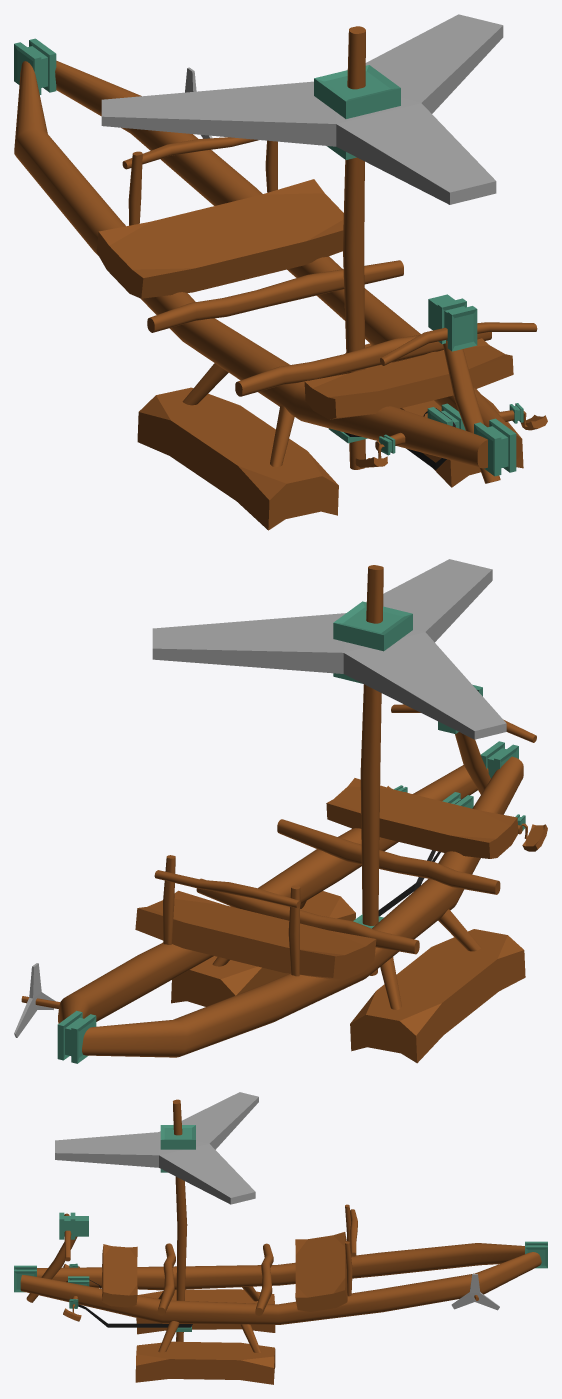
File: Helicopter.fbx
3 views of the same model, one above another, from view 1: azimuth 30°, elevation 25°; view 2: azimuth 150°, elevation 25°; view 3: azimuth 270°, elevation 25° (orthographic). The views are drawn at different scales.
Parts seen in each view (by area): view 1: Цилиндр, ТраекторияNurbs, Куб, Куб.002, Куб.001, ТраекторияNurbs.007, ТраекторияNurbs.001, ТраекторияNurbs.008, Куб.010, Куб.009, ТраекторияNurbs.005, ТраекторияNurbs.004 (+5 smaller); view 2: ТраекторияNurbs, Цилиндр, Куб.002, Куб, Куб.001, ТраекторияNurbs.007, ТраекторияNurbs.008, ТраекторияNurbs.001, Куб.010, ТраекторияNurbs.002, ТраекторияNurbs.003, ТраекторияNurbs.004 (+4 smaller); view 3: ТраекторияNurbs, Цилиндр, Куб.002, Куб, Куб.001, ТраекторияNurbs.007, Куб.010, ТраекторияNurbs.004, ТраекторияNurbs.008, ТраекторияNurbs.001, Куб.009, Цилиндр.001 (+5 smaller).
Part boxes in pixels (left/top/right/bottom): Цилиндр: left=101, top=14, right=503, bottom=204; ТраекторияNurbs: left=14, top=60, right=521, bottom=468; Куб: left=96, top=179, right=343, bottom=298; Куб.002: left=137, top=343, right=523, bottom=530; Куб.001: left=304, top=338, right=513, bottom=419; ТраекторияNurbs.007: left=343, top=26, right=365, bottom=469; ТраекторияNurbs.001: left=147, top=260, right=403, bottom=332; ТраекторияNurbs.008: left=235, top=332, right=491, bottom=396; Куб.010: left=314, top=65, right=400, bottom=159; Куб.009: left=428, top=294, right=477, bottom=351; ТраекторияNurbs.005: left=442, top=340, right=500, bottom=483; ТраекторияNurbs.004: left=182, top=344, right=372, bottom=467; ТраекторияNurbs: left=58, top=756, right=523, bottom=1057; Цилиндр: left=152, top=559, right=506, bottom=739; Куб.002: left=171, top=891, right=525, bottom=1063; Куб: left=135, top=890, right=376, bottom=980; Куб.001: left=326, top=778, right=518, bottom=858; ТраекторияNurbs.007: left=360, top=565, right=383, bottom=975; ТраекторияNurbs.008: left=277, top=819, right=500, bottom=894; ТраекторияNurbs.001: left=196, top=878, right=419, bottom=954; Куб.010: left=333, top=601, right=412, bottom=683; ТраекторияNurbs.002: left=163, top=855, right=300, bottom=976; ТраекторияNurbs.003: left=154, top=870, right=300, bottom=908; ТраекторияNurbs.004: left=212, top=901, right=480, bottom=1009; ТраекторияNurbs: left=20, top=1243, right=541, bottom=1324; Цилиндр: left=55, top=1092, right=258, bottom=1204; Куб.002: left=135, top=1289, right=275, bottom=1384; Куб: left=295, top=1232, right=347, bottom=1311; Куб.001: left=102, top=1244, right=137, bottom=1307; ТраекторияNurbs.007: left=173, top=1099, right=187, bottom=1341; Куб.010: left=160, top=1125, right=195, bottom=1172; ТраекторияNurbs.004: left=158, top=1286, right=260, bottom=1352; ТраекторияNurbs.008: left=157, top=1243, right=175, bottom=1315; ТраекторияNurbs.001: left=255, top=1243, right=273, bottom=1315; Куб.009: left=59, top=1212, right=88, bottom=1239; Цилиндр.001: left=451, top=1274, right=499, bottom=1310.
Bounding box in the file's own units: 206 × 224 × 436.
